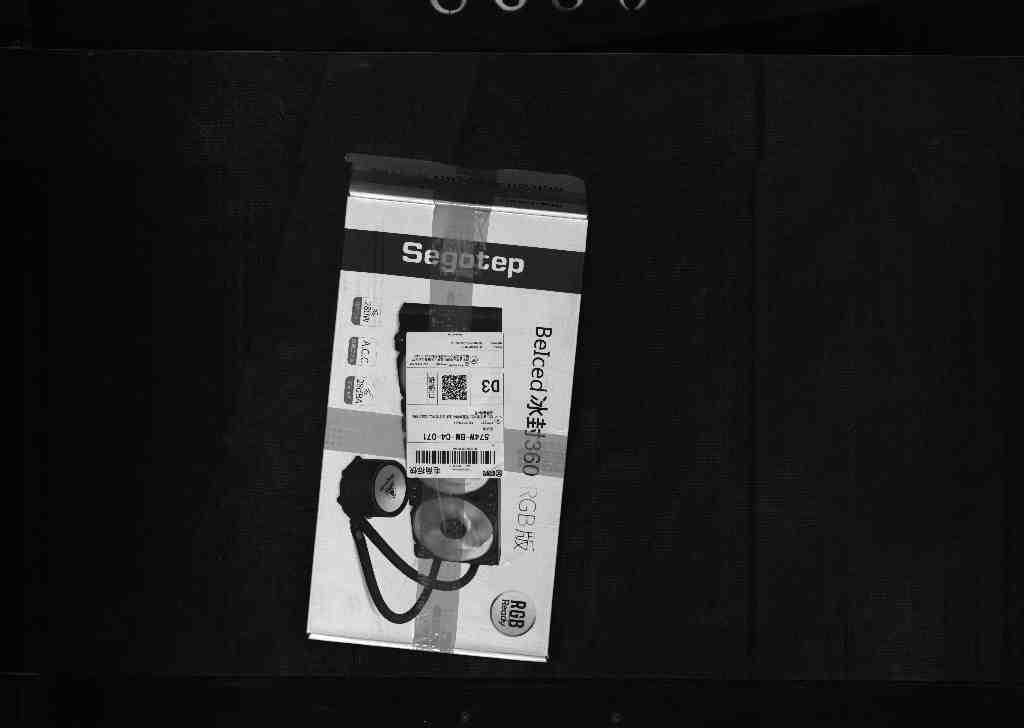box: (269, 143, 596, 676)
